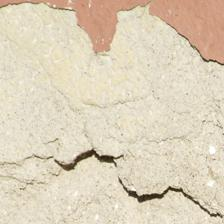Crack: (19, 72, 200, 145)
